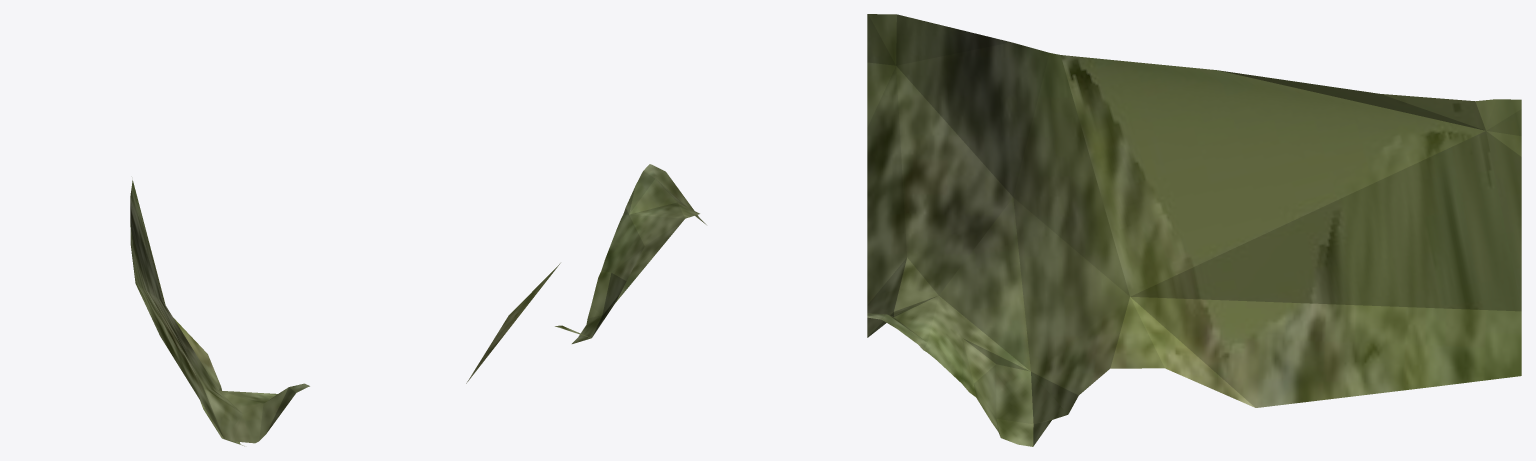
3 views of the same model, side by side, from view 1: azimuth 30°, elevation 25°; view 2: azimuth 150°, elevation 25°; view 3: azimuth 270°, elevation 25° (orthographic). The views are drawn at different scales.
Size of the model in its own units: 1.04 by 1.67 by 2.95.
2 materials, 2 textured.
